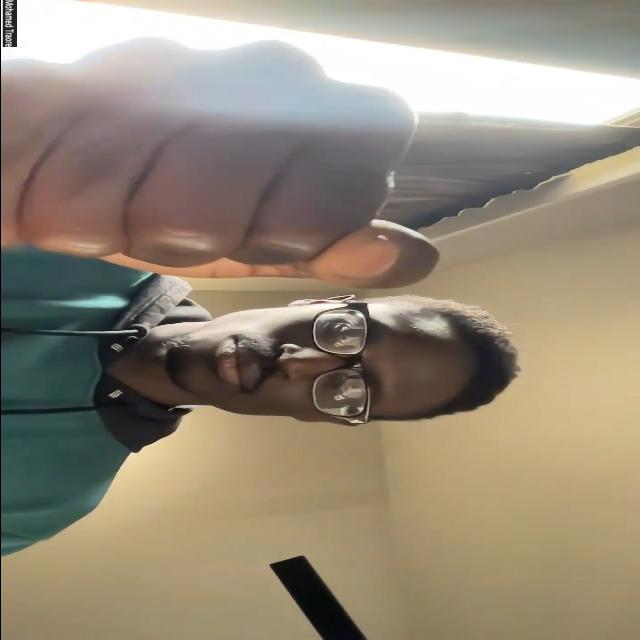Rock: (0, 35, 438, 290)
